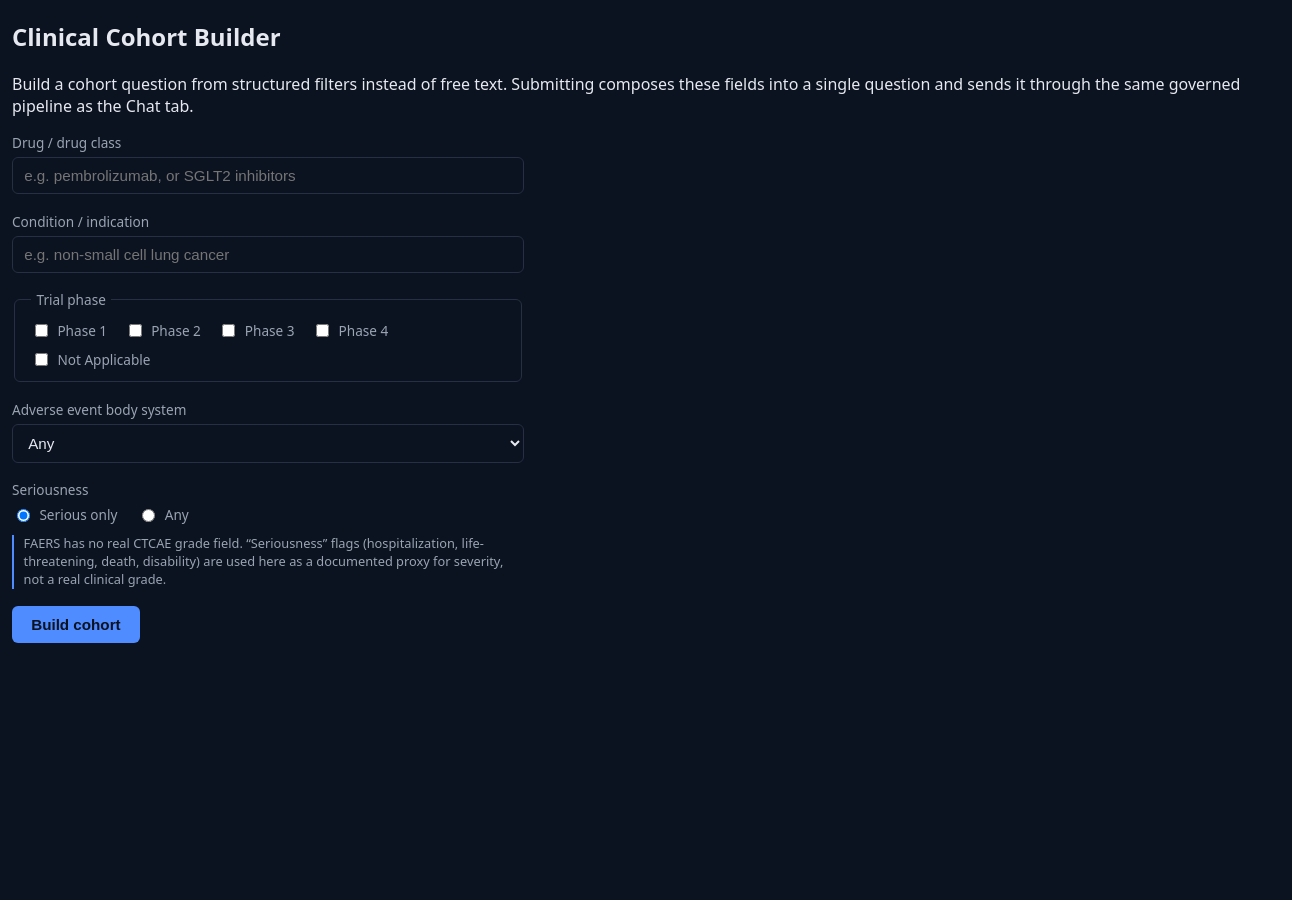
CohortPage › composes the structured fields into a question and sends it on submit
Type "pembrolizumab" into the field labelled "Drug / drug class" at coordinates (268, 176), box [12, 157, 524, 194]
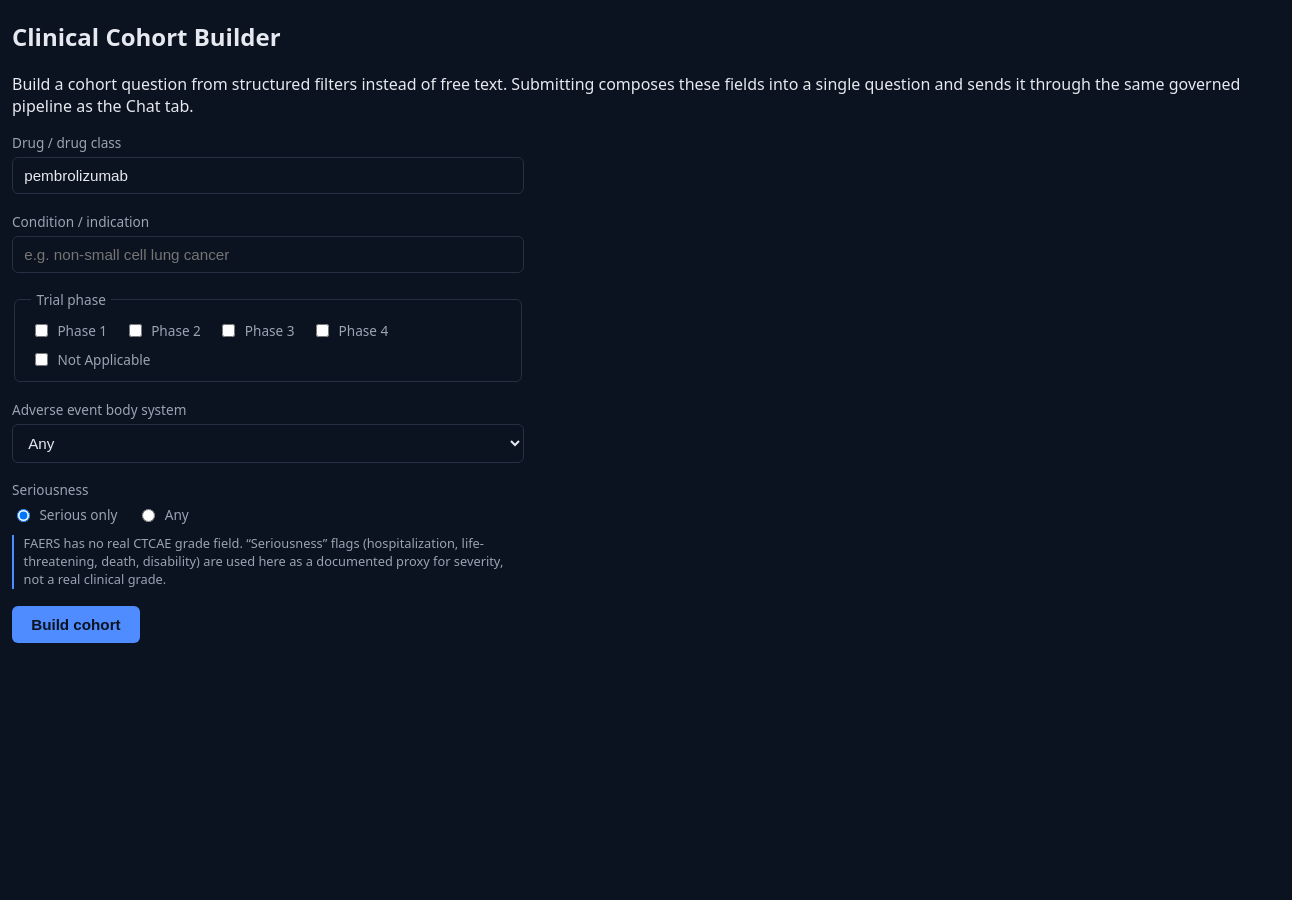
Type "lung cancer" into the field labelled "Condition / indication" at coordinates (268, 254), box [12, 236, 524, 273]
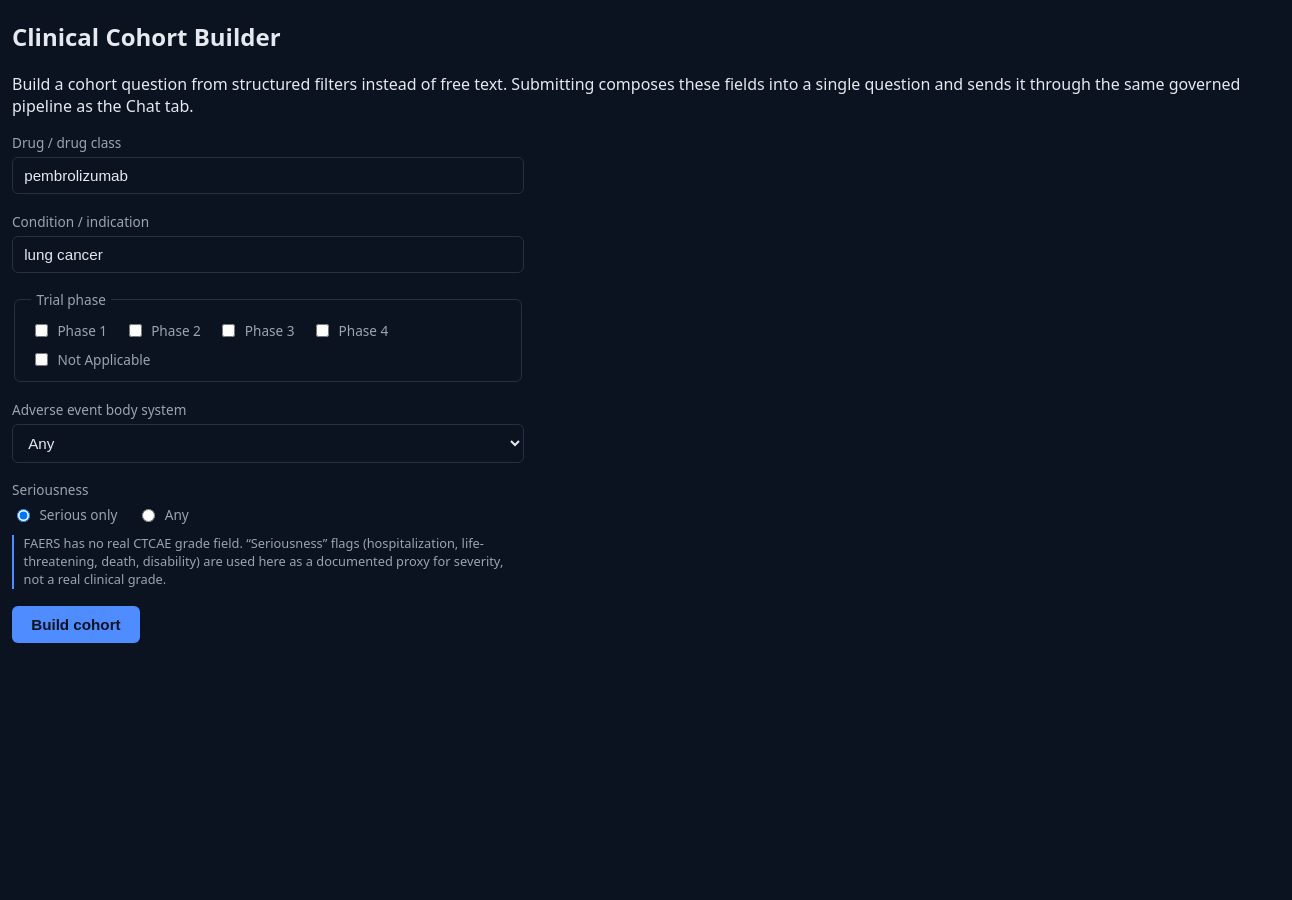
Click the checkbox labelled "Phase 3" at coordinates (229, 331), box [222, 324, 236, 337]
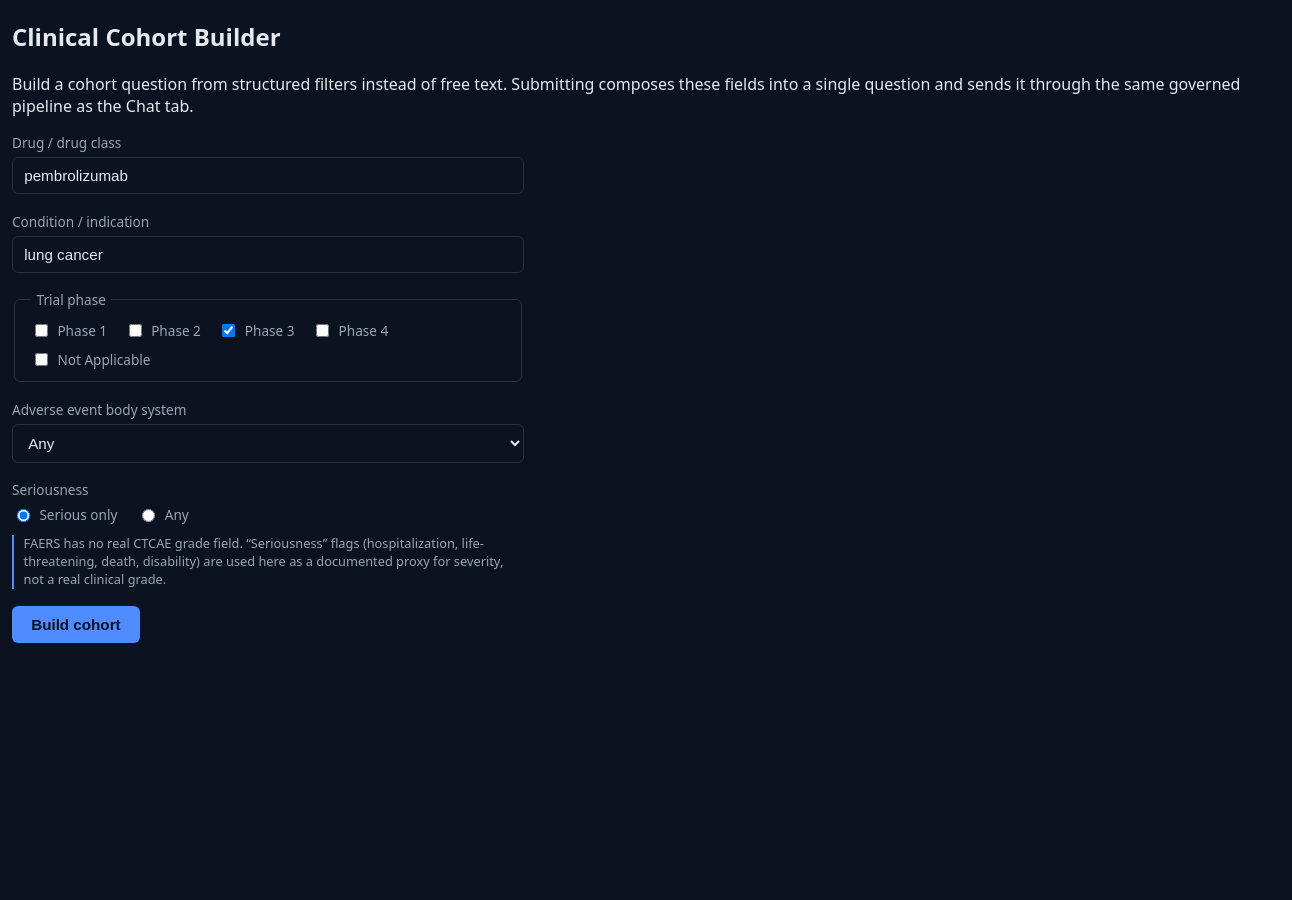
Select "Cardiac" in the dropdown labelled "Adverse event body system" at coordinates (268, 444), box [12, 424, 524, 463]
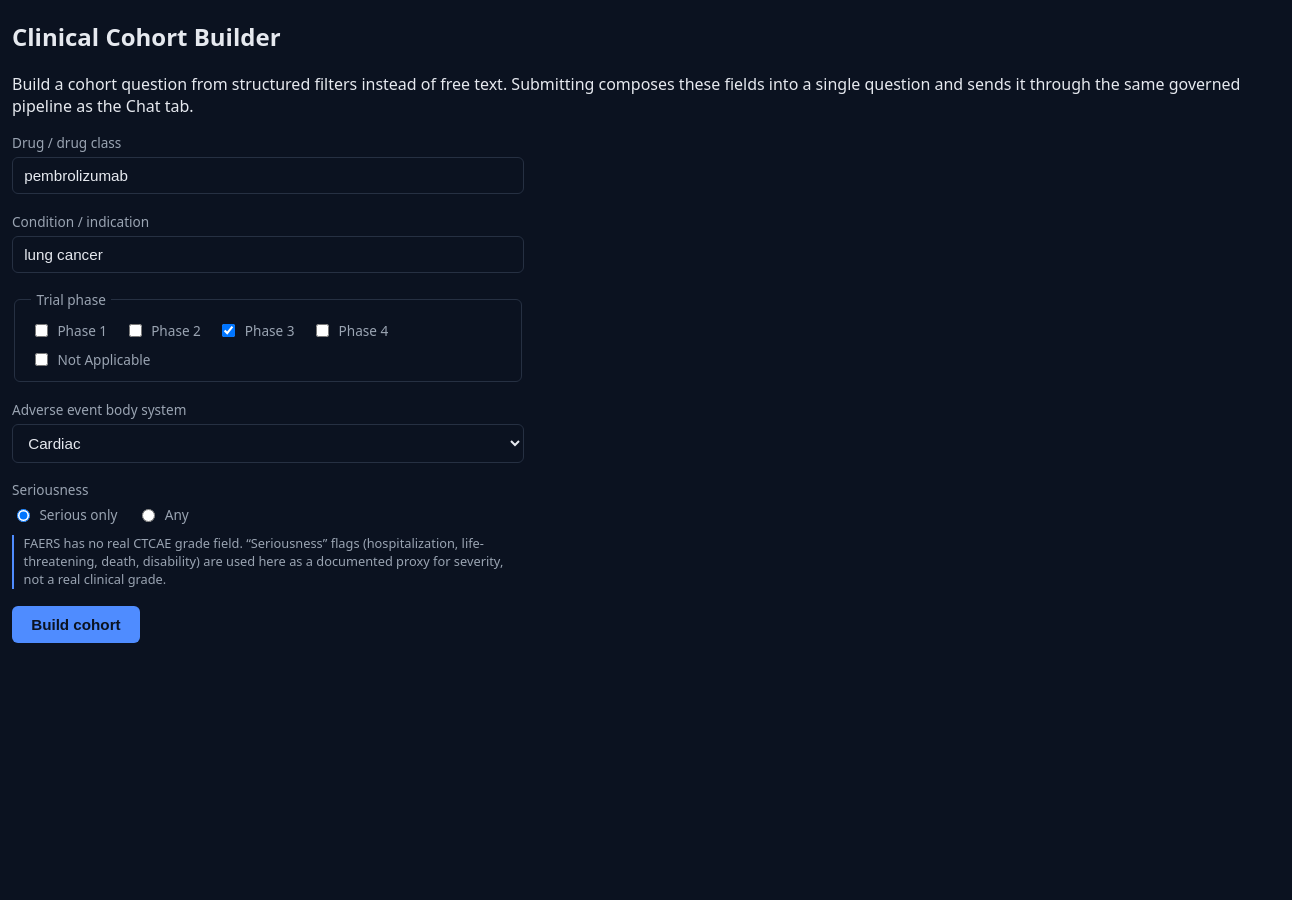
Click the button "Build cohort" at coordinates (76, 624), box [12, 606, 140, 643]
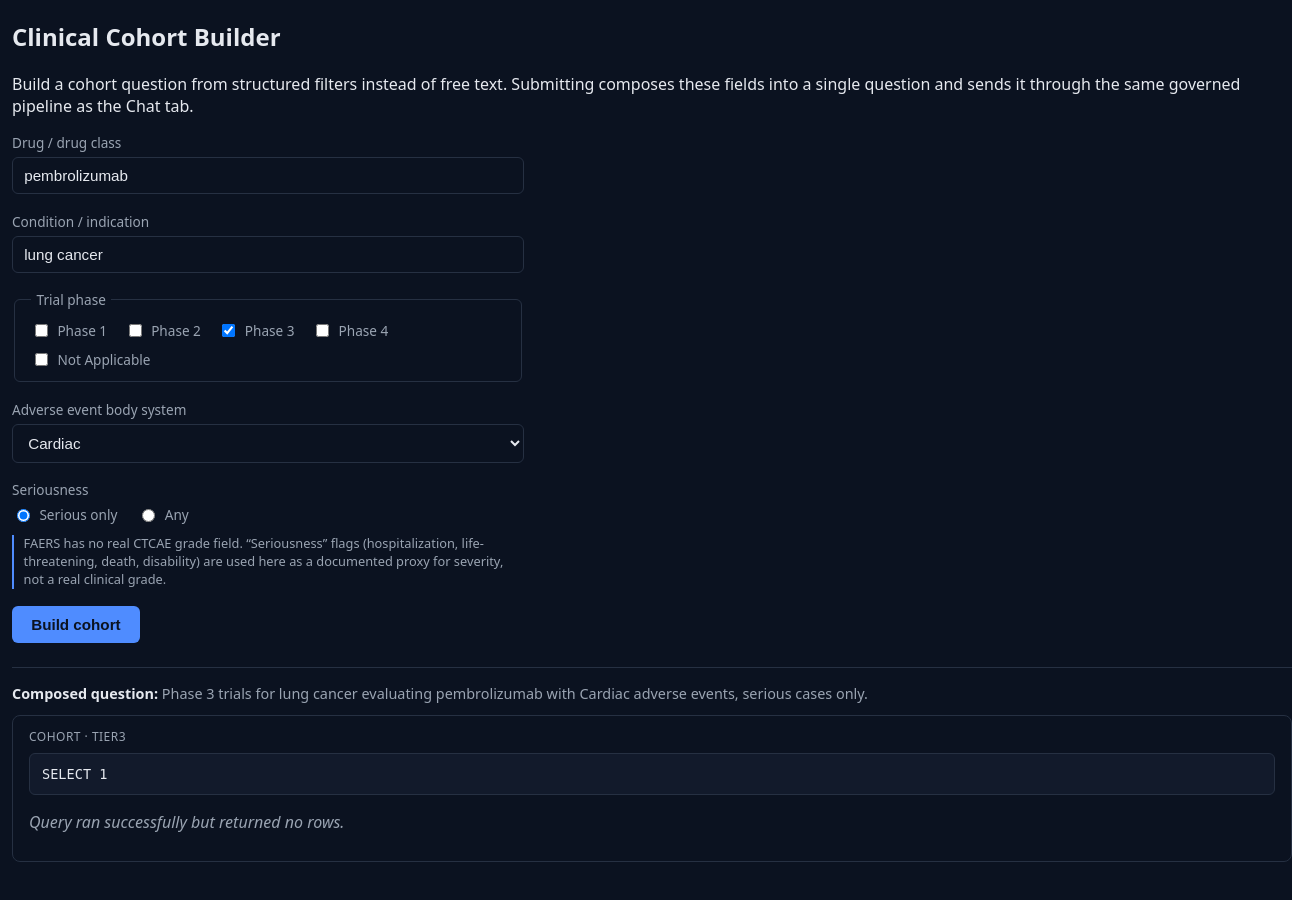
Expected: the text "Composed question:" is shown, [12, 684, 158, 703]
